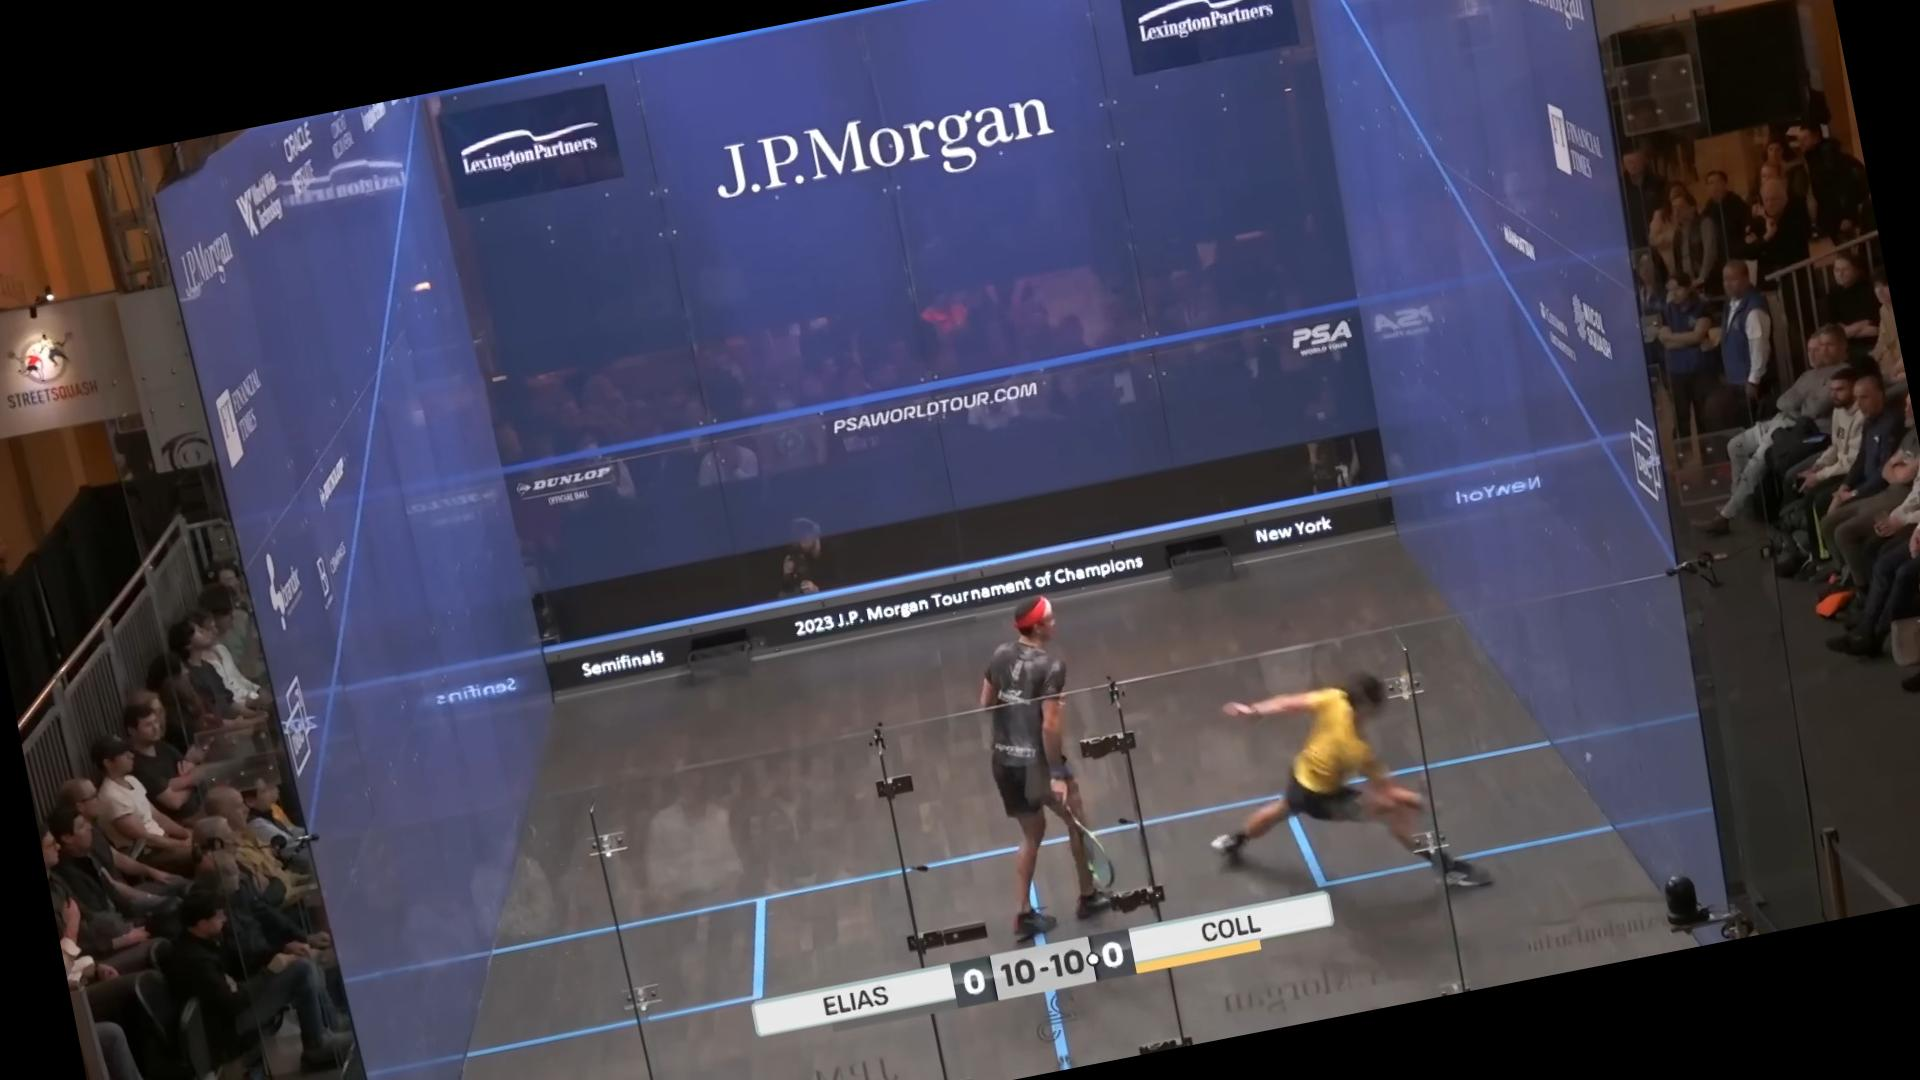Racket: (1051, 793, 1127, 899)
